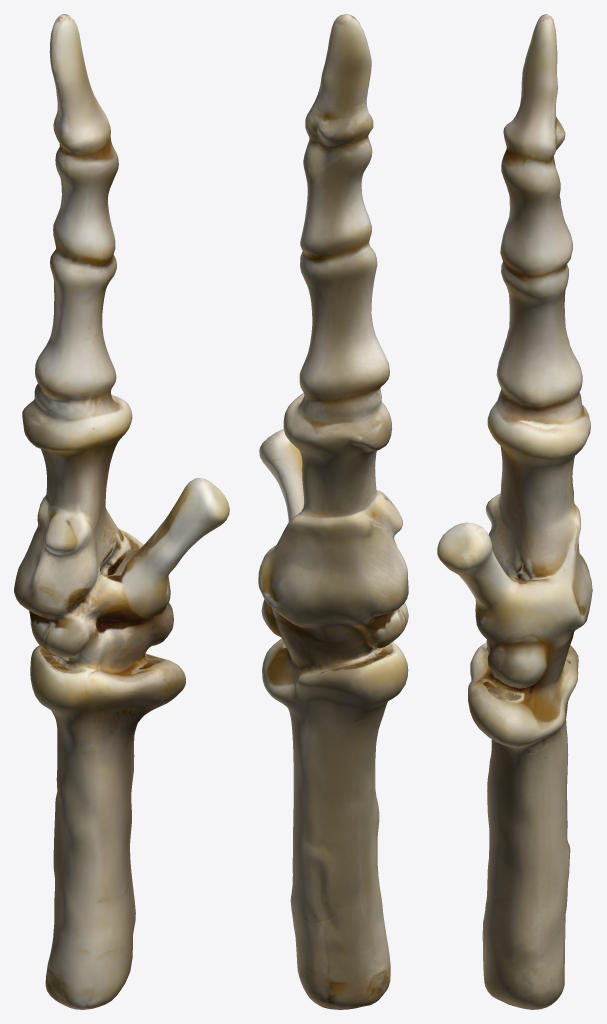
The picture shows the model from 3 angles, left to right: view 1: azimuth 30°, elevation 25°; view 2: azimuth 150°, elevation 25°; view 3: azimuth 270°, elevation 25°; orthographic projection.
Parts seen in each view (by area): view 1: Mesh1.0; view 2: Mesh1.0; view 3: Mesh1.0.
Boxes of the visible parts, x1,y1,x2,y2 form: Mesh1.0: (14, 14, 229, 1009); Mesh1.0: (258, 14, 408, 1009); Mesh1.0: (437, 14, 592, 1009).
Size of the model in its own units: 37.12 by 201 by 28.82.
Materials: 1 (1 with a texture image).
